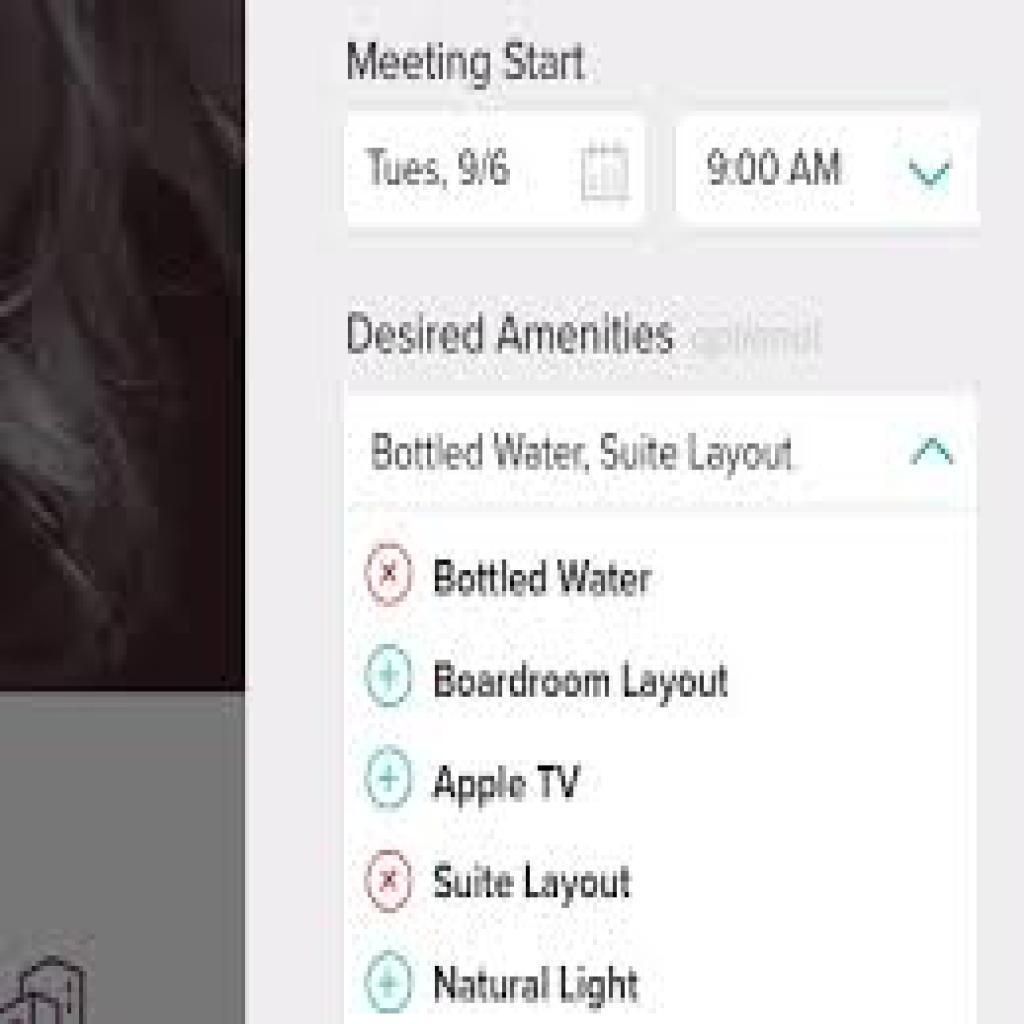dropdown: (338, 385, 983, 511), (679, 101, 990, 229)
input: (349, 111, 645, 231)
label: (342, 306, 831, 375), (347, 33, 594, 94)
